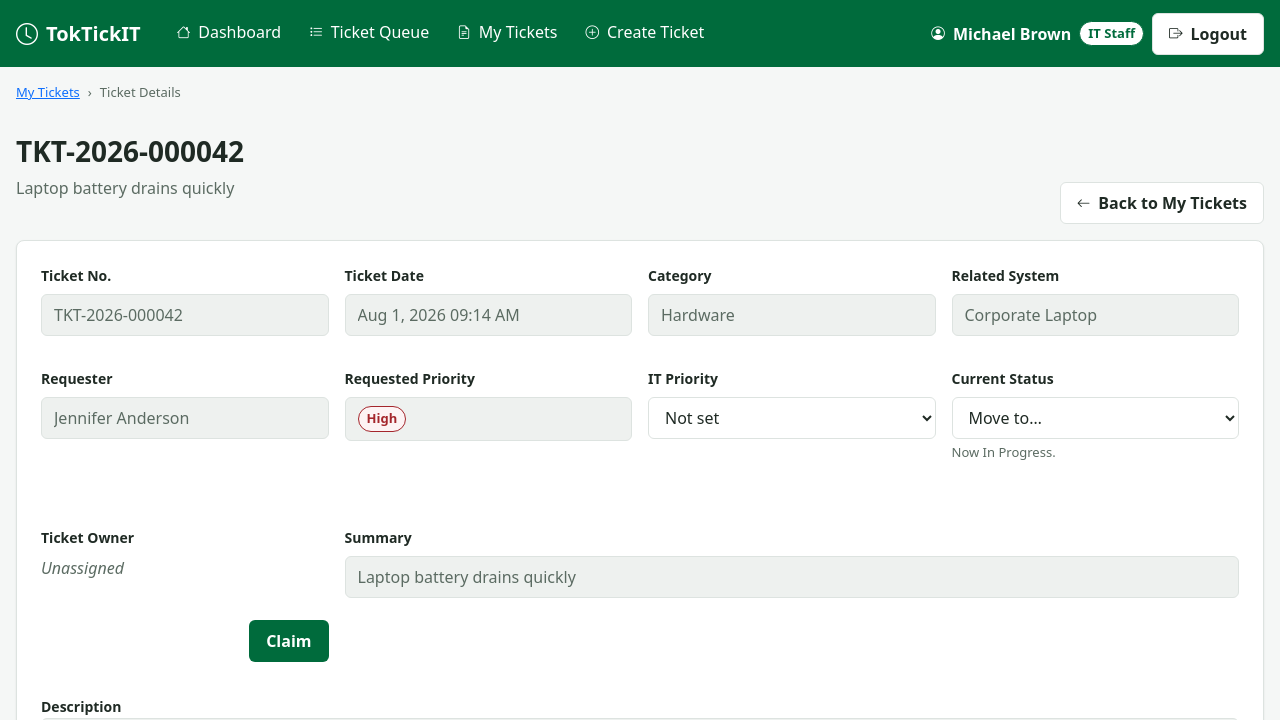
Test: UI-35 the dialog is a real modal › Cancel closes it and applies nothing
Step 1. Select "Resolved" in the dropdown labelled "Current Status" → (1095, 418), box [952,397,1239,439]
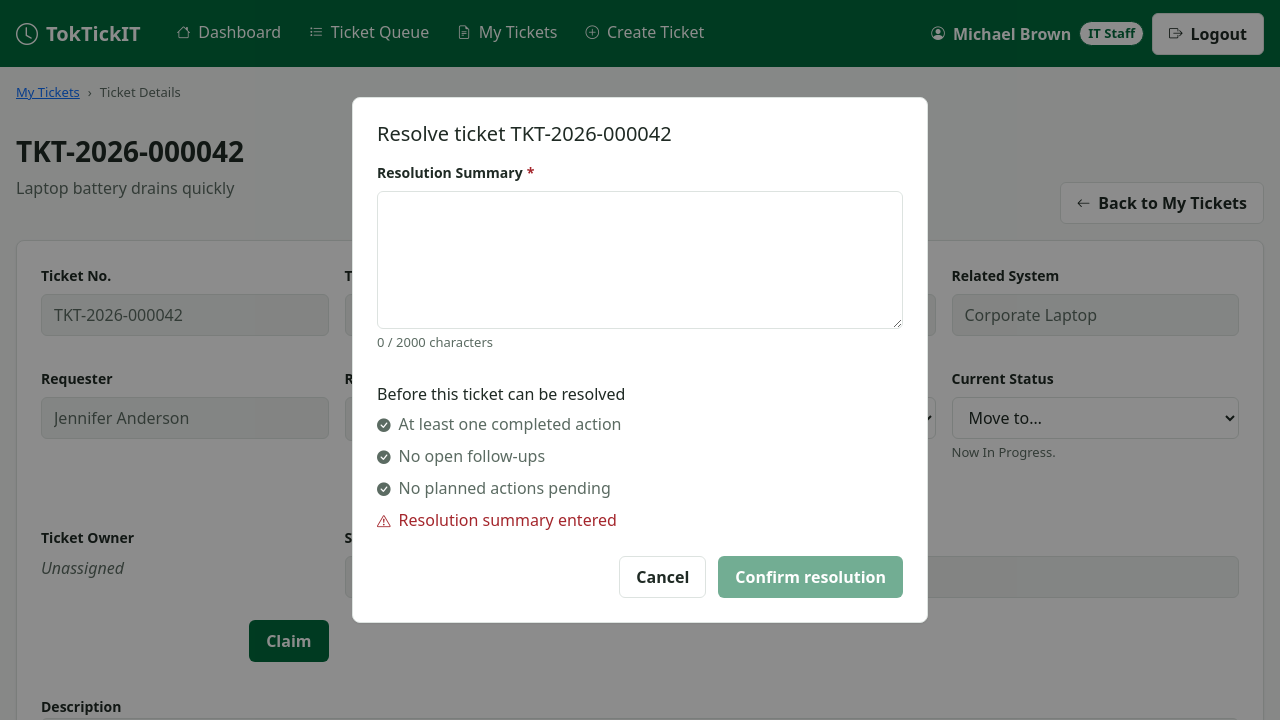
Step 2. Type "Half written" into the text box labelled "Resolution Summary*" → (640, 260), box [377,191,903,329]
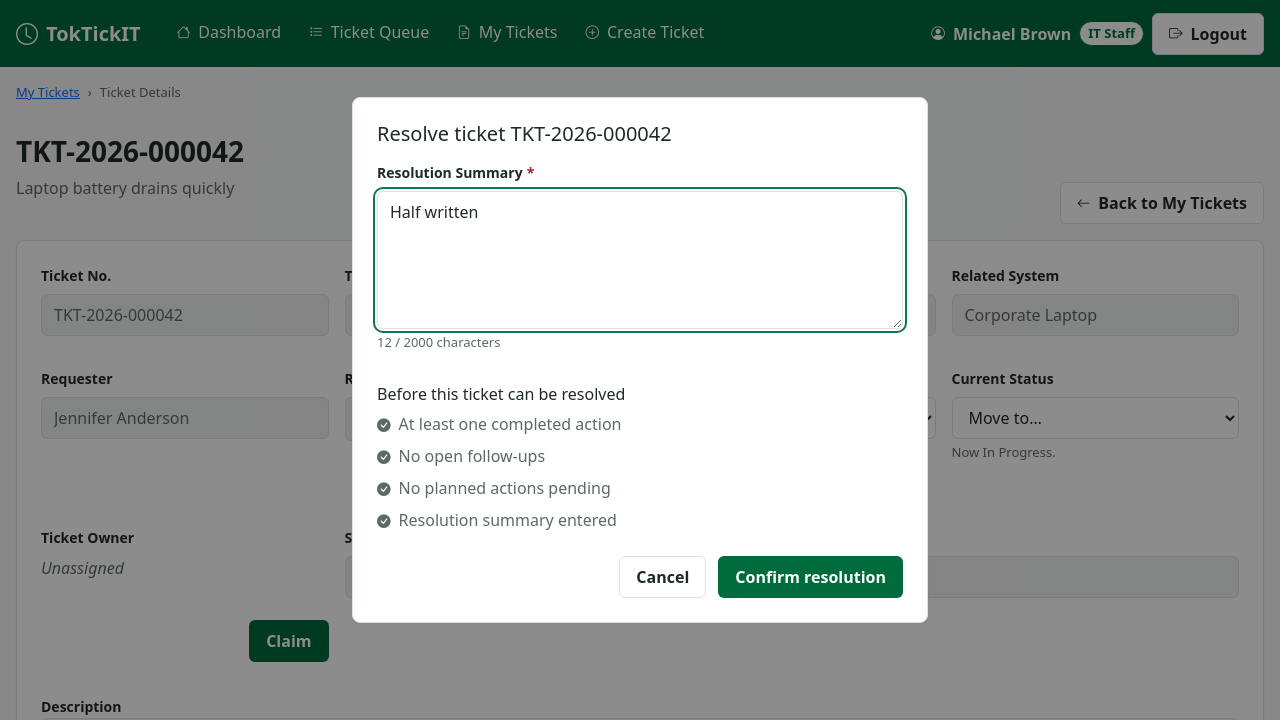
Step 3. Click the button "Cancel" → (663, 577), box [619,556,706,598]
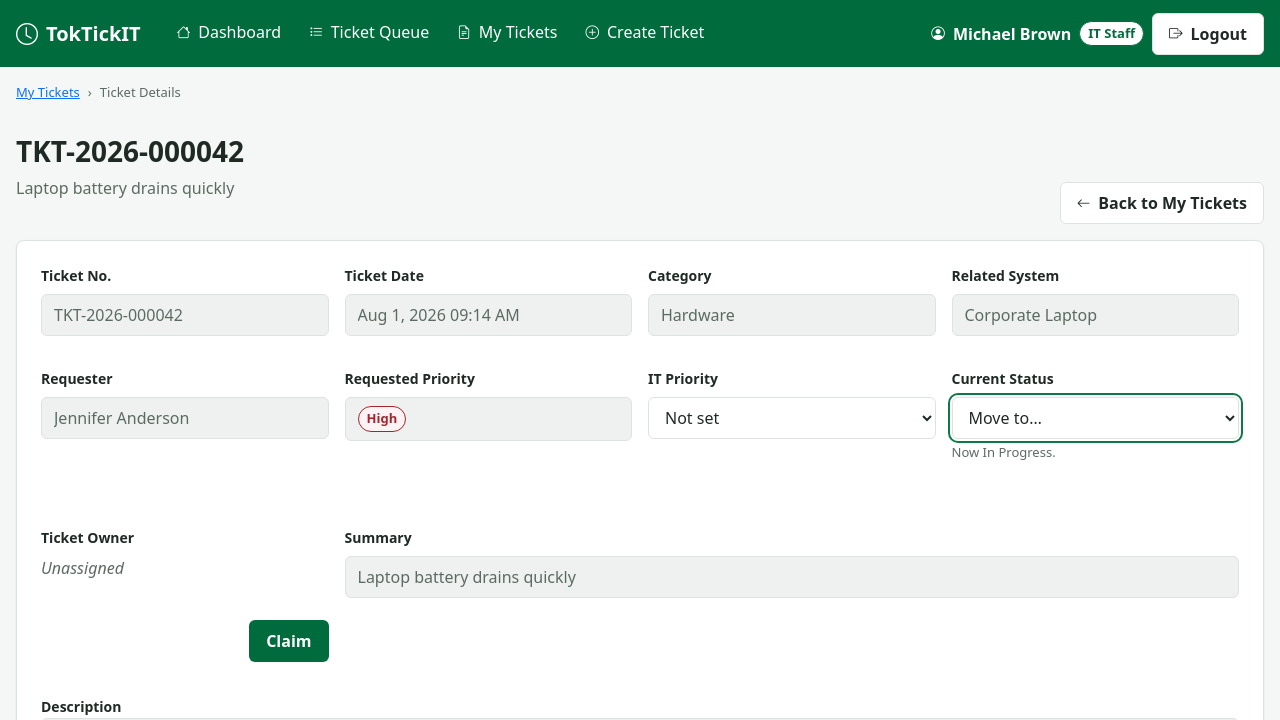
Expected: the text "Now In Progress." is shown, [952,443,1056,461]
Expected: the dialog is gone
